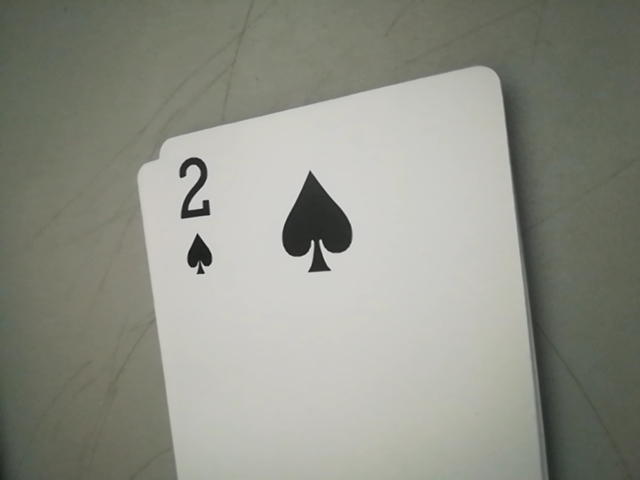ht 2: (164, 149, 237, 283)
